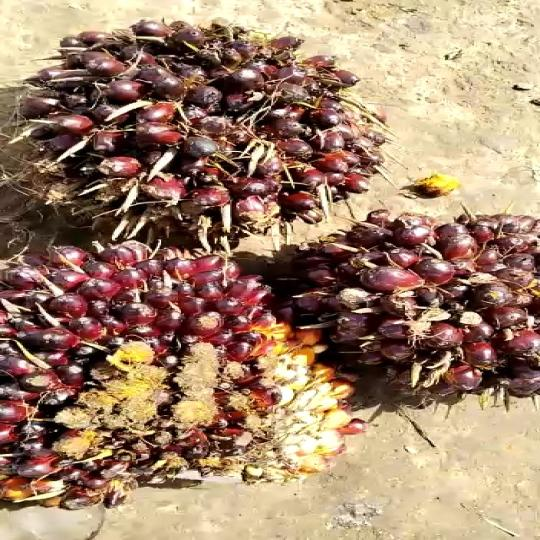kurang masak: (0, 215, 361, 539), (19, 13, 400, 237), (276, 192, 540, 410)
